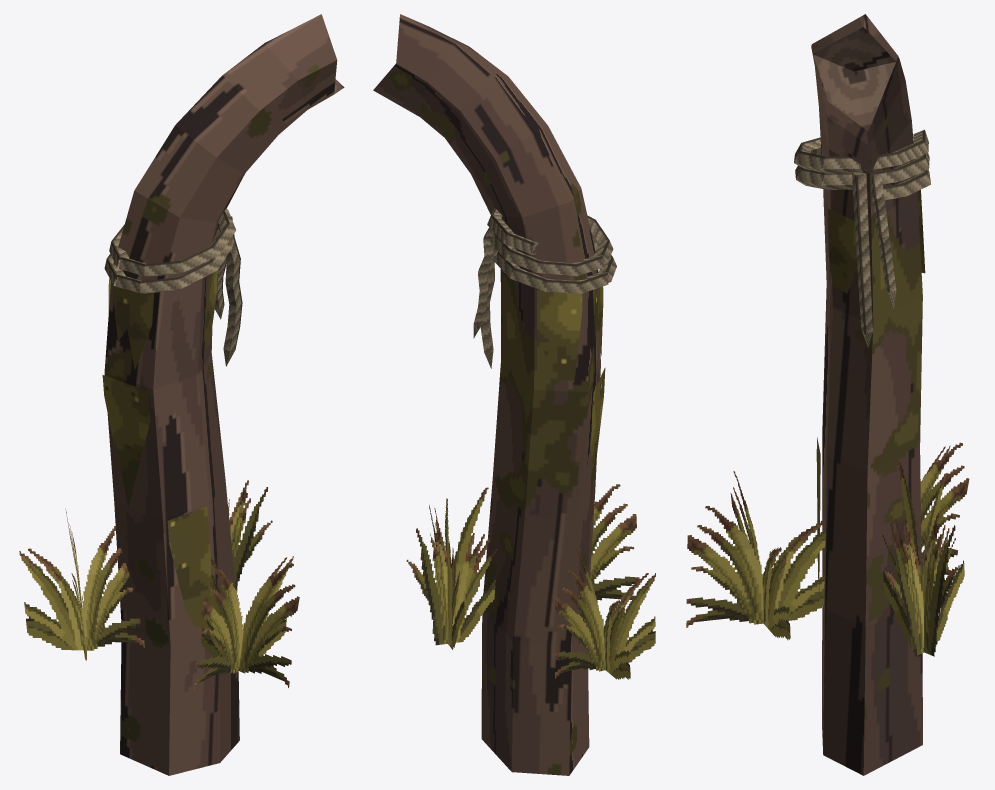
The model's file is SM_SW15_StakeRope.fbx.
3 renders of one model, left to right at view 1: azimuth 30°, elevation 25°; view 2: azimuth 150°, elevation 25°; view 3: azimuth 270°, elevation 25°, orthographic. The views are drawn at different scales.
Parts seen in each view (by area): view 1: SW15b_Bark, SW15b_Plants, SW15b_Moss, SW15b_Props; view 2: SW15b_Bark, SW15b_Plants, SW15b_Props, SW15b_Moss; view 3: SW15b_Bark, SW15b_Plants, SW15b_Props, SW15b_Moss.
Part boxes in pixels (x1,y1,x2,y2): SW15b_Bark: [104, 14, 337, 775]; SW15b_Plants: [19, 480, 299, 689]; SW15b_Moss: [102, 270, 217, 628]; SW15b_Props: [104, 79, 344, 366]; SW15b_Bark: [373, 14, 600, 775]; SW15b_Plants: [406, 484, 655, 679]; SW15b_Props: [473, 208, 616, 368]; SW15b_Moss: [537, 286, 605, 507]; SW15b_Bark: [811, 14, 922, 775]; SW15b_Plants: [686, 442, 969, 656]; SW15b_Props: [794, 27, 930, 347]; SW15b_Moss: [816, 189, 925, 595].
Size of the model in its own units: 0.9338 by 2.18 by 0.7327.
